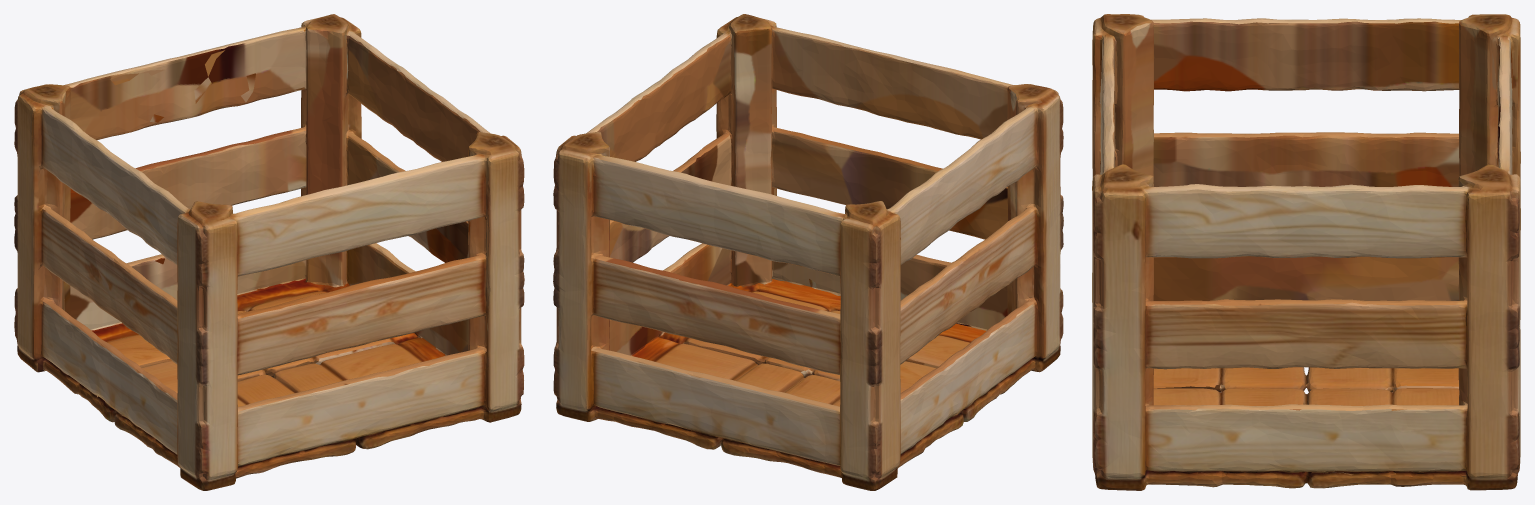
The model's file is mdl_crate_001.glb.
The picture shows the model from 3 angles, left to right: view 1: azimuth 30°, elevation 25°; view 2: azimuth 150°, elevation 25°; view 3: azimuth 270°, elevation 25°; orthographic projection. The views are drawn at different scales.
Visible parts, largest first — view 1: tmp0vk3gw46.ply; view 2: tmp0vk3gw46.ply; view 3: tmp0vk3gw46.ply.
Part boxes in pixels (x1,y1,x2,y2): tmp0vk3gw46.ply: [14, 14, 524, 490]; tmp0vk3gw46.ply: [553, 14, 1063, 490]; tmp0vk3gw46.ply: [1092, 14, 1520, 490].
Size of the model in its own units: 0.9907 by 0.7794 by 0.9901.
Materials: 1 (1 with a texture image).
